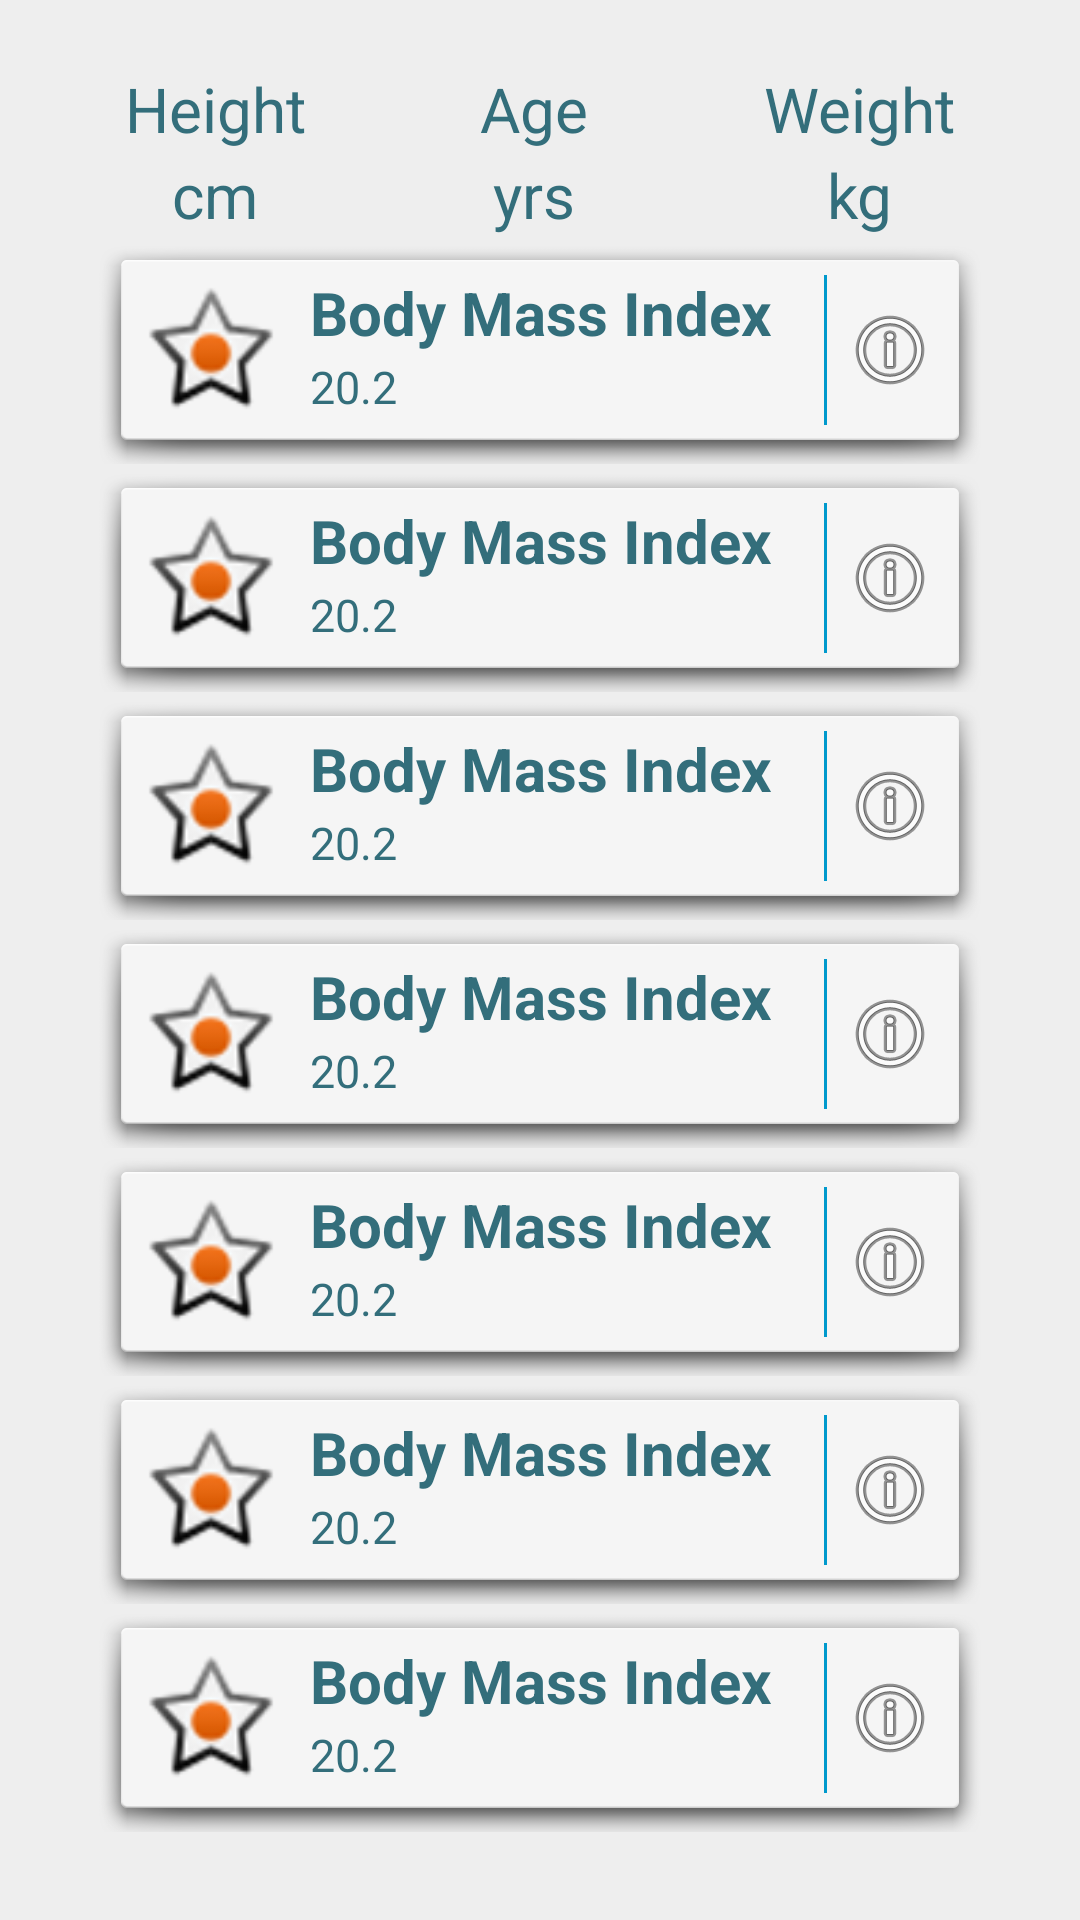

Icons on this 1080w x 1920h Android screen, each with its box as box(x1, y1, x2, y2):
info details: box(855, 315, 925, 385), box(855, 543, 925, 613), box(855, 771, 925, 841), box(855, 999, 925, 1069), box(855, 1227, 925, 1297), box(855, 1455, 925, 1525), box(855, 1683, 925, 1753)
star on: box(150, 289, 273, 407), box(150, 517, 273, 635), box(150, 745, 273, 863), box(150, 973, 273, 1091), box(150, 1201, 273, 1319), box(150, 1429, 273, 1547), box(150, 1657, 273, 1775)
